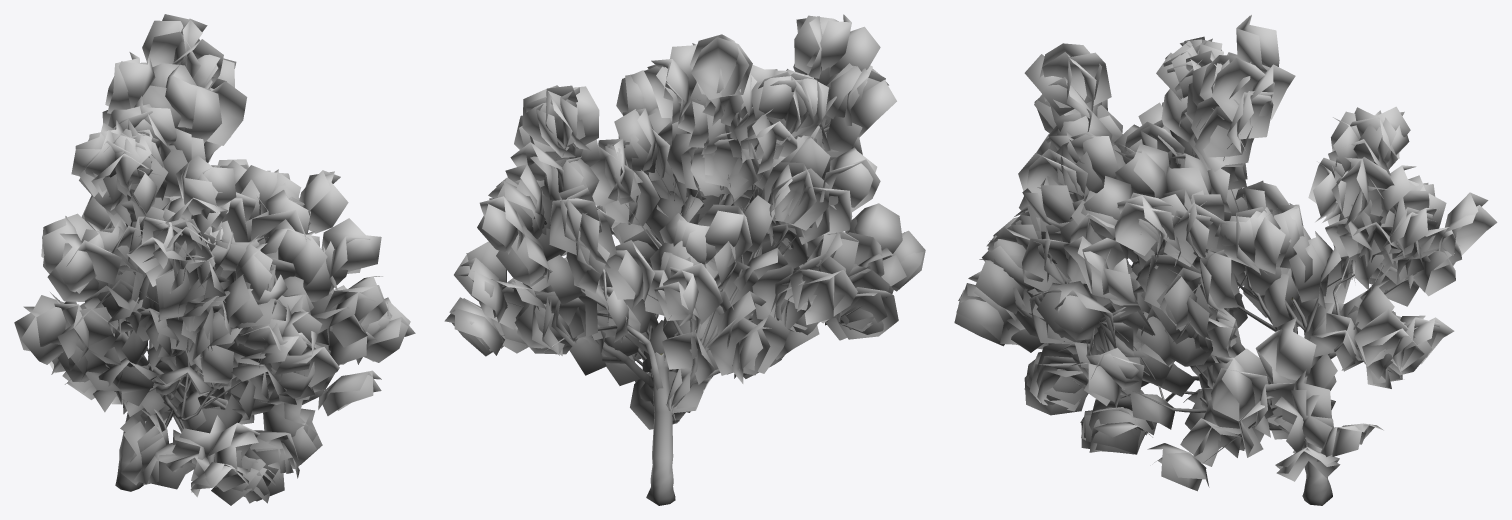
The model's file is SycamoreMiddleEastern_E.fbx.
3 renders of one model, left to right at view 1: azimuth 30°, elevation 25°; view 2: azimuth 150°, elevation 25°; view 3: azimuth 270°, elevation 25°, orthographic. The views are drawn at different scales.
Parts seen in each view (by area): view 1: SycamoreMiddleEastern_E_LOD0; view 2: SycamoreMiddleEastern_E_LOD0; view 3: SycamoreMiddleEastern_E_LOD0.
Part boxes in pixels (x1,y1,x2,y2): SycamoreMiddleEastern_E_LOD0: (14,14,415,505); SycamoreMiddleEastern_E_LOD0: (444,14,925,505); SycamoreMiddleEastern_E_LOD0: (954,15,1497,505).
Bounding box in the file's own units: 1112 × 1309 × 1390.
